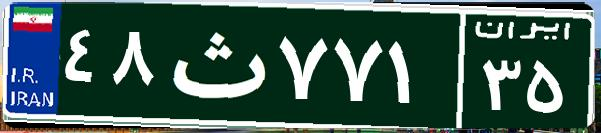1: (385, 28, 445, 110)
3: (475, 38, 525, 113)
4: (57, 26, 110, 107)
5: (525, 38, 570, 115)
7: (273, 28, 330, 110), (330, 28, 385, 110)
8: (110, 28, 158, 105)
ث: (158, 15, 273, 115)
